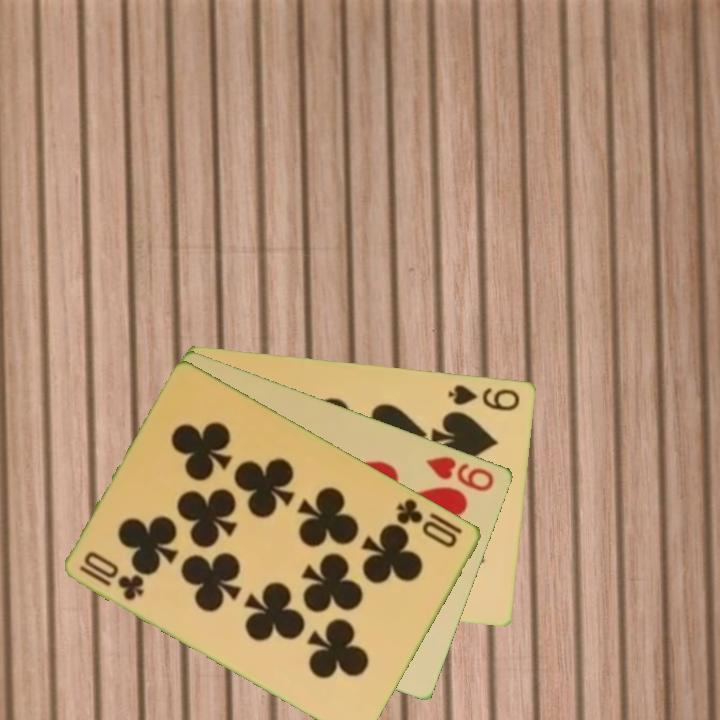10c: (76, 547, 148, 604), (393, 494, 461, 551)
9h: (423, 452, 498, 495)
9s: (445, 381, 523, 413)
